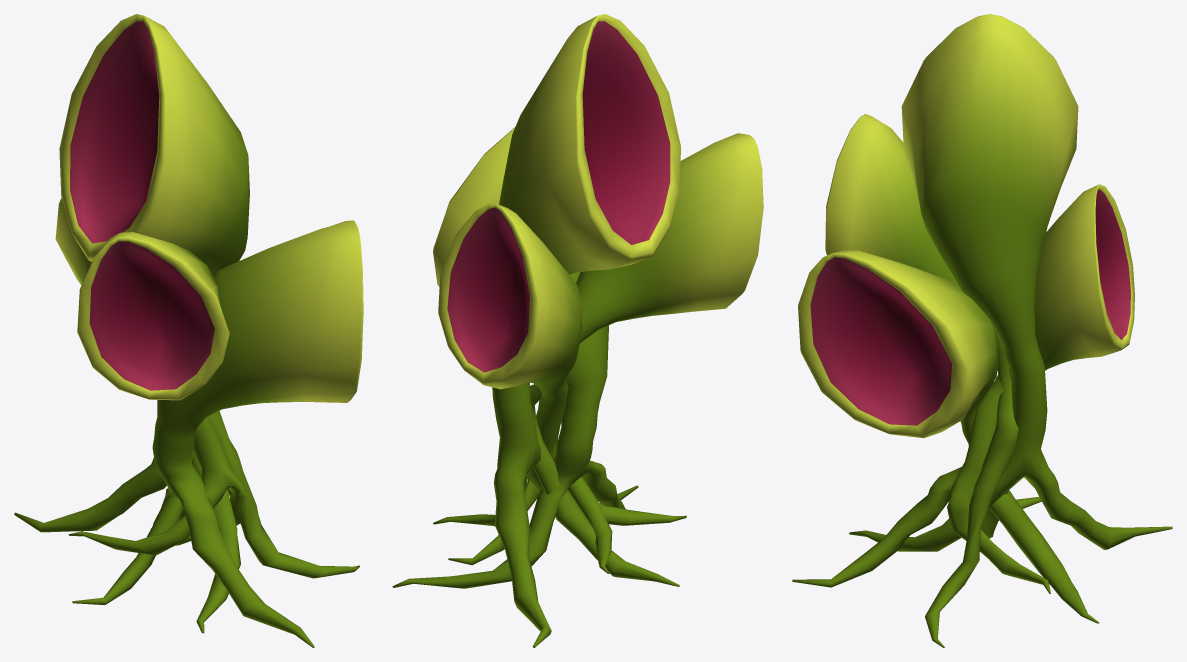
Rendered from Prop_cryo_plant_4.fbx.
3 views of the same model, side by side, from view 1: azimuth 30°, elevation 25°; view 2: azimuth 150°, elevation 25°; view 3: azimuth 270°, elevation 25° (orthographic). The views are drawn at different scales.
Parts seen in each view (by area): view 1: Plant4; view 2: Plant4; view 3: Plant4.
Part boxes in pixels (x1,y1,x2,y2): Plant4: [14, 14, 363, 647]; Plant4: [392, 14, 763, 647]; Plant4: [792, 14, 1172, 647].
Size of the model in its own units: 30.7 by 26.93 by 48.65.
